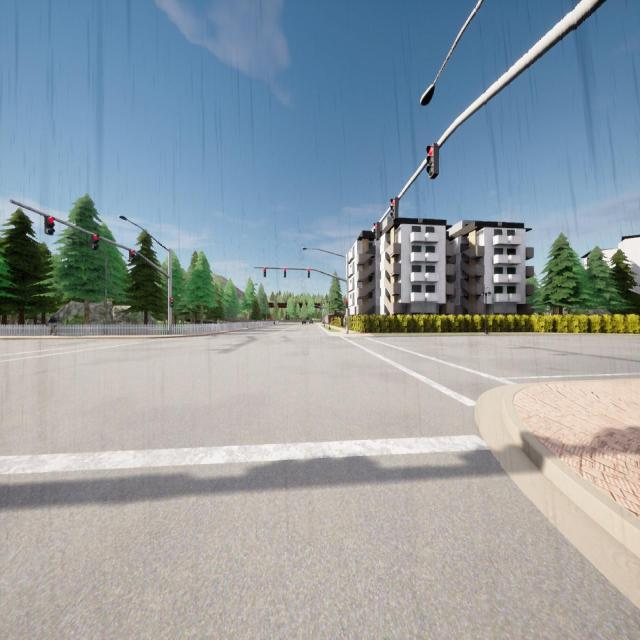Pedestrian: (47, 315, 57, 336)
Vehicle: (309, 319, 313, 324), (302, 320, 306, 324)
traffic_light: (426, 143, 439, 179), (389, 196, 398, 222), (44, 216, 55, 235), (374, 222, 382, 241), (92, 235, 99, 250), (129, 250, 135, 262), (170, 298, 173, 307), (264, 267, 266, 277), (308, 268, 310, 278), (284, 268, 286, 277), (346, 299, 348, 308)
